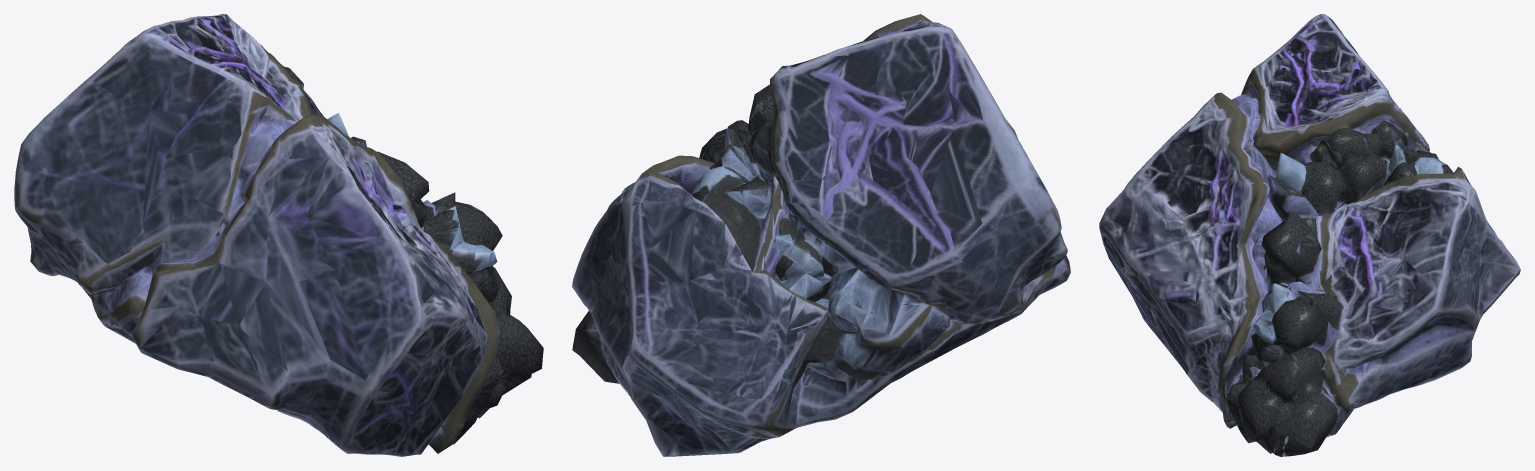
The model's file is iceBlack.glb.
3 views of the same model, side by side, from view 1: azimuth 30°, elevation 25°; view 2: azimuth 150°, elevation 25°; view 3: azimuth 270°, elevation 25° (orthographic). The views are drawn at different scales.
Visible parts, largest first — view 1: iceBlack.001; view 2: iceBlack.001; view 3: iceBlack.001.
Part boxes in pixels (bbox=[...]): iceBlack.001: bbox=[14, 14, 543, 456]; iceBlack.001: bbox=[572, 14, 1070, 456]; iceBlack.001: bbox=[1099, 14, 1520, 456].
Size of the model in its own units: 0.2298 by 0.2026 by 0.2309.
Materials: 1 (1 with a texture image).
